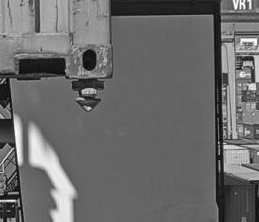Copy of Copy of twist_lock_2: (64, 71, 113, 117)
